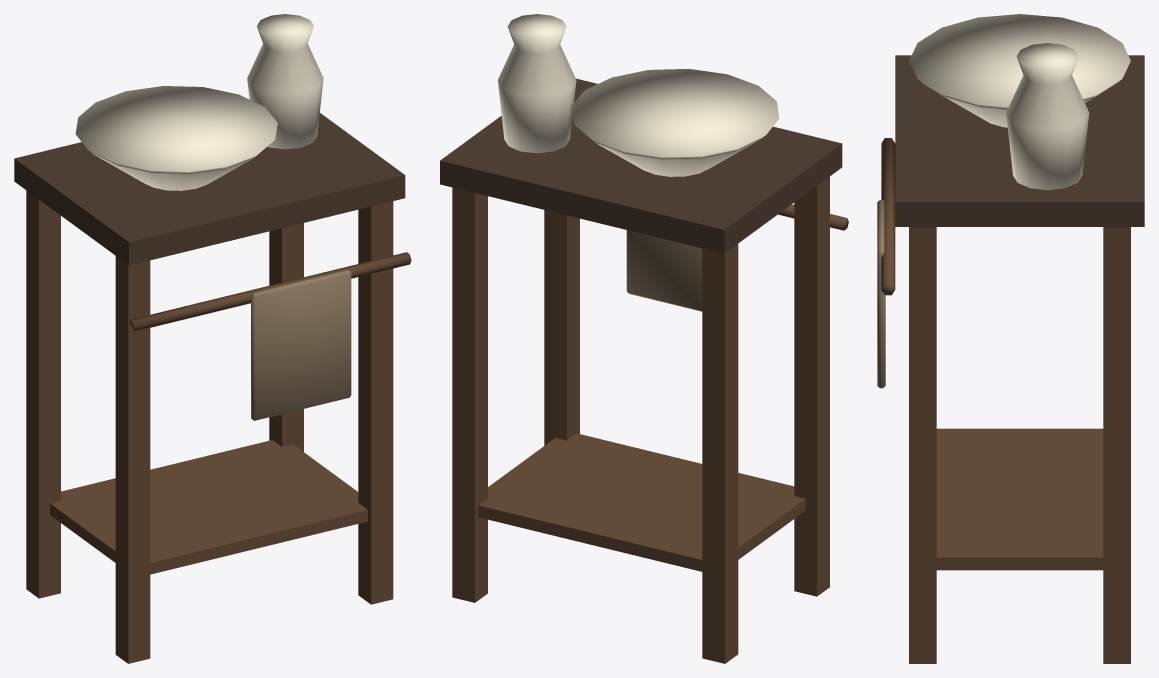
Rendered from washstand.glb.
3 views of the same model, side by side, from view 1: azimuth 30°, elevation 25°; view 2: azimuth 150°, elevation 25°; view 3: azimuth 270°, elevation 25° (orthographic). The views are drawn at different scales.
Visible parts, largest first — view 1: washstand; view 2: washstand; view 3: washstand.
Part boxes in pixels (x1,y1,x2,y2): washstand: (14, 14, 411, 663); washstand: (440, 14, 848, 663); washstand: (877, 14, 1144, 663).
Size of the model in its own units: 0.5 by 0.93 by 0.386.
